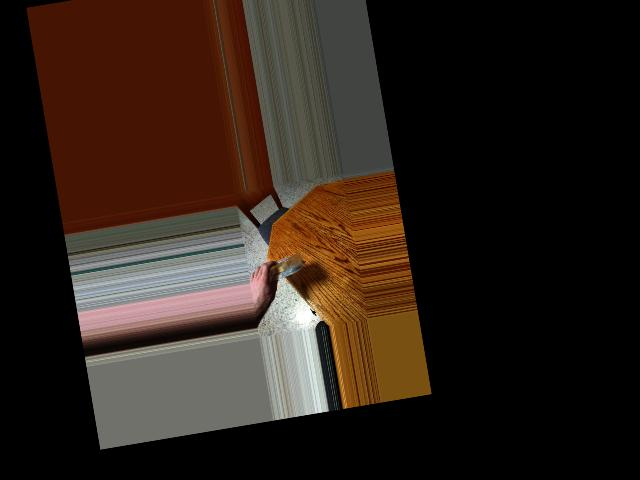cheese: (266, 252, 303, 288)
